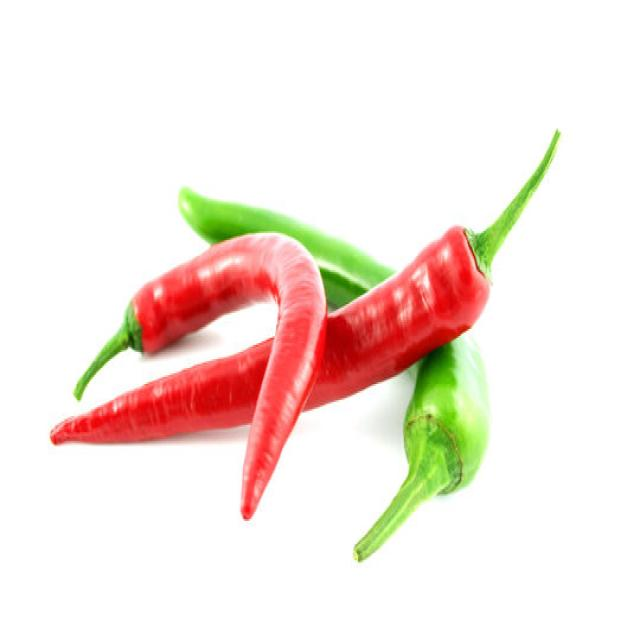Chilli: (71, 228, 328, 519), (303, 123, 563, 409), (175, 183, 486, 413), (352, 330, 489, 562), (177, 183, 398, 311), (49, 332, 276, 447), (238, 231, 327, 521)
